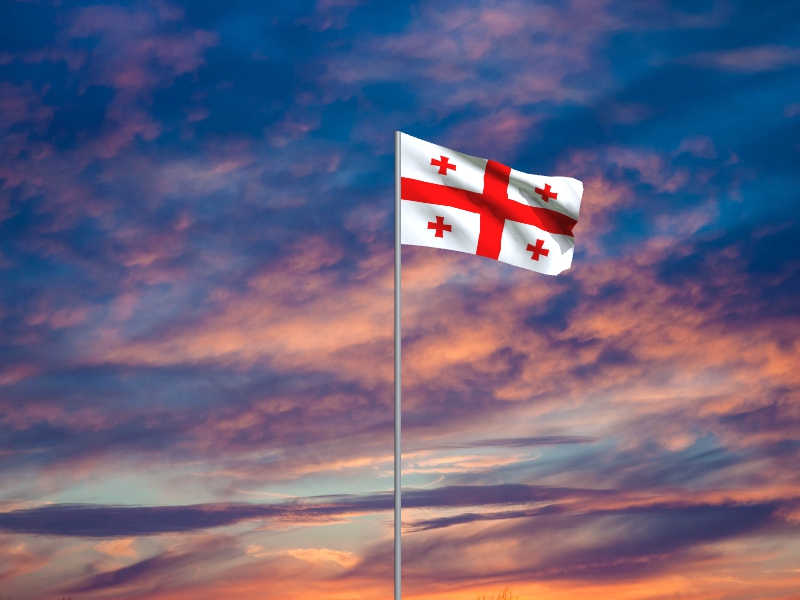ge: (402, 133, 585, 277)
